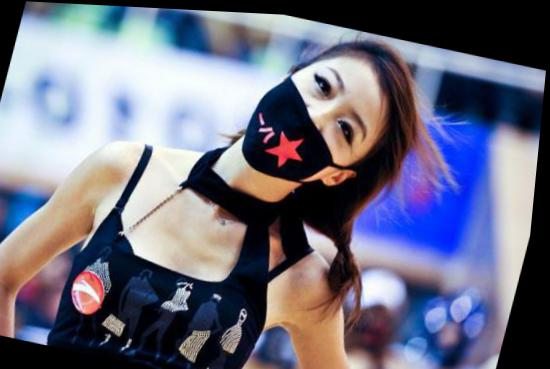WRONG: (241, 46, 388, 188)
